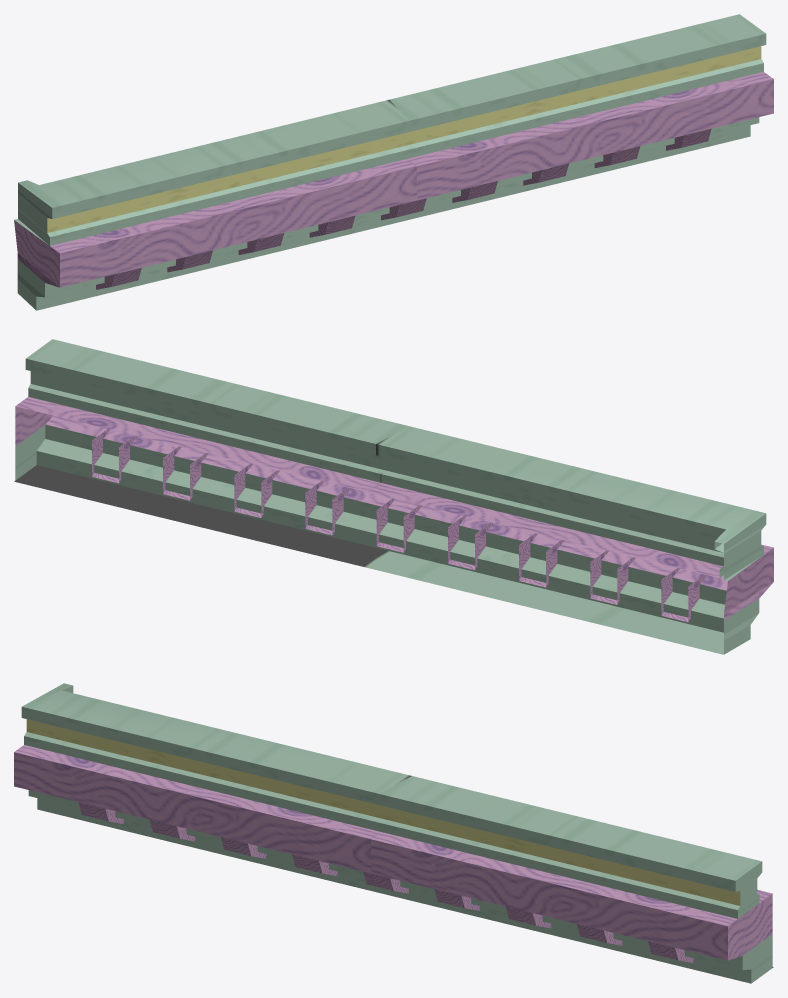
The model's file is House_RoofDeko.fbx.
3 renders of one model, top to bottom at view 1: azimuth 30°, elevation 25°; view 2: azimuth 150°, elevation 25°; view 3: azimuth 330°, elevation 25°, orthographic.
Visible parts, largest first — view 1: Ceiling.001; view 2: Ceiling.001; view 3: Ceiling.001.
Part boxes in pixels (bbox=[...]): Ceiling.001: bbox=[14, 14, 773, 310]; Ceiling.001: bbox=[14, 339, 773, 654]; Ceiling.001: bbox=[14, 683, 773, 983].
Bounding box in the file's own units: 501 × 76.77 × 56.14.
